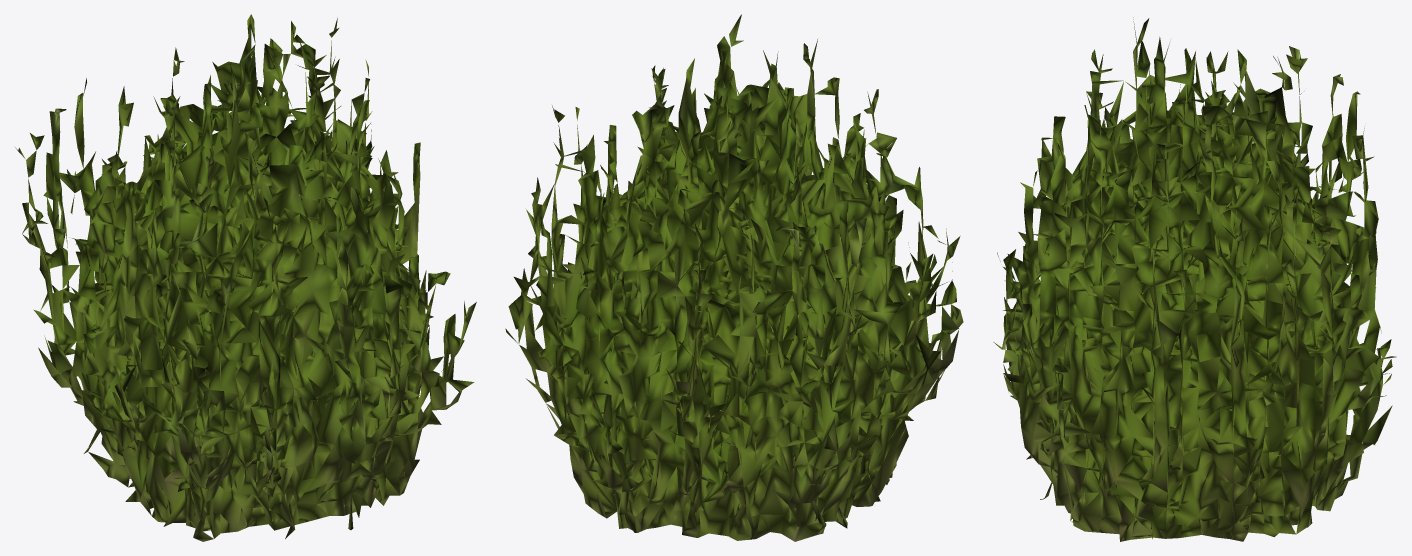
File: thyme.glb
The picture shows the model from 3 angles, left to right: view 1: azimuth 30°, elevation 25°; view 2: azimuth 150°, elevation 25°; view 3: azimuth 270°, elevation 25°; orthographic projection.
Visible parts, largest first — view 1: Mesh_0.003; view 2: Mesh_0.003; view 3: Mesh_0.003.
Part boxes in pixels (left/top/right/bottom): Mesh_0.003: left=15, top=14, right=476, bottom=541; Mesh_0.003: left=505, top=14, right=963, bottom=541; Mesh_0.003: left=993, top=17, right=1396, bottom=541.
Size of the model in its own units: 1.2 by 1.5 by 1.2.
